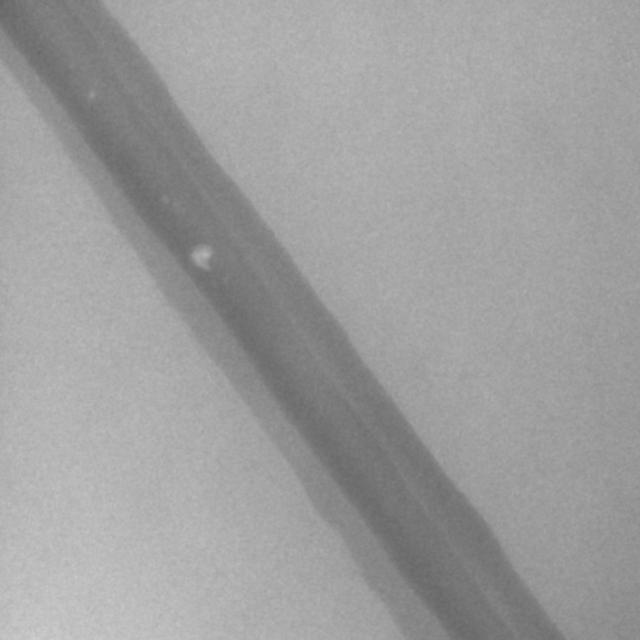air hole: (87, 89, 96, 99)
slag inclusion: (190, 245, 213, 272)
